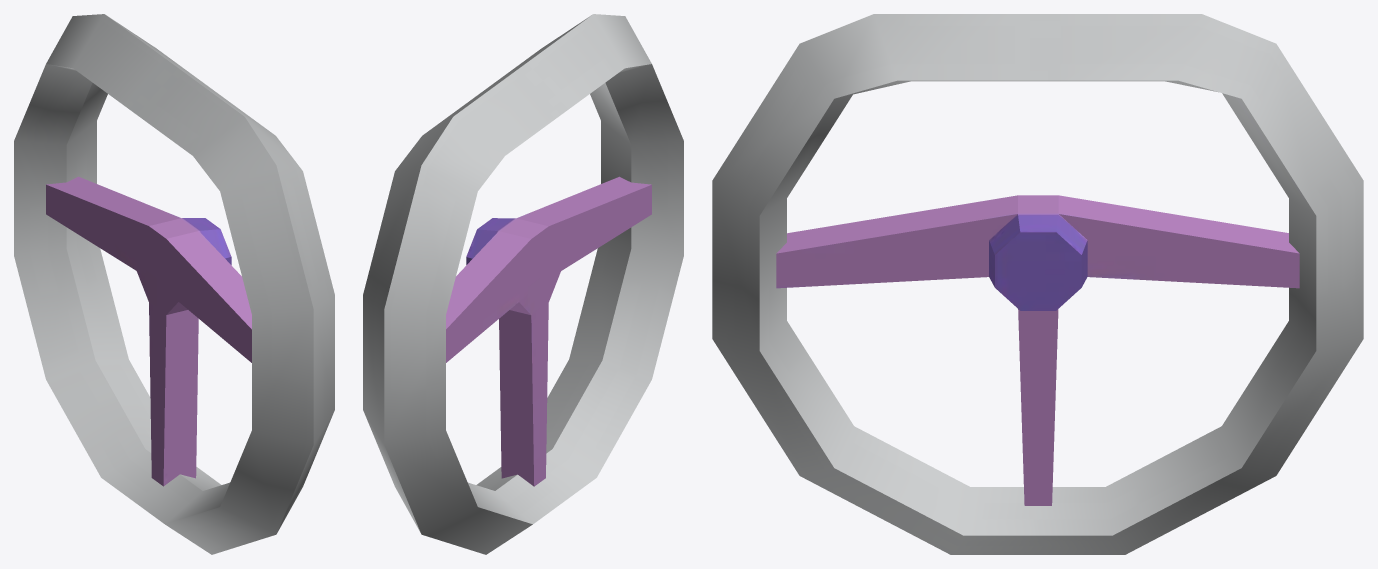
3 views of the same model, side by side, from view 1: azimuth 30°, elevation 25°; view 2: azimuth 150°, elevation 25°; view 3: azimuth 270°, elevation 25° (orthographic). The views are drawn at different scales.
Visible parts, largest first — view 1: Wheel_7, INT_WHEEL; view 2: Wheel_7, INT_WHEEL; view 3: Wheel_7, INT_WHEEL.
Part boxes in pixels (box(x1,y1,x2,y2)): Wheel_7: box(14, 14, 334, 554); INT_WHEEL: box(46, 176, 251, 486); Wheel_7: box(363, 14, 683, 554); INT_WHEEL: box(446, 176, 651, 486); Wheel_7: box(712, 14, 1363, 554); INT_WHEEL: box(776, 195, 1299, 505).
Bounding box in the file's own units: 0.4946 × 2.63 × 2.87.
2 materials, 2 textured.
